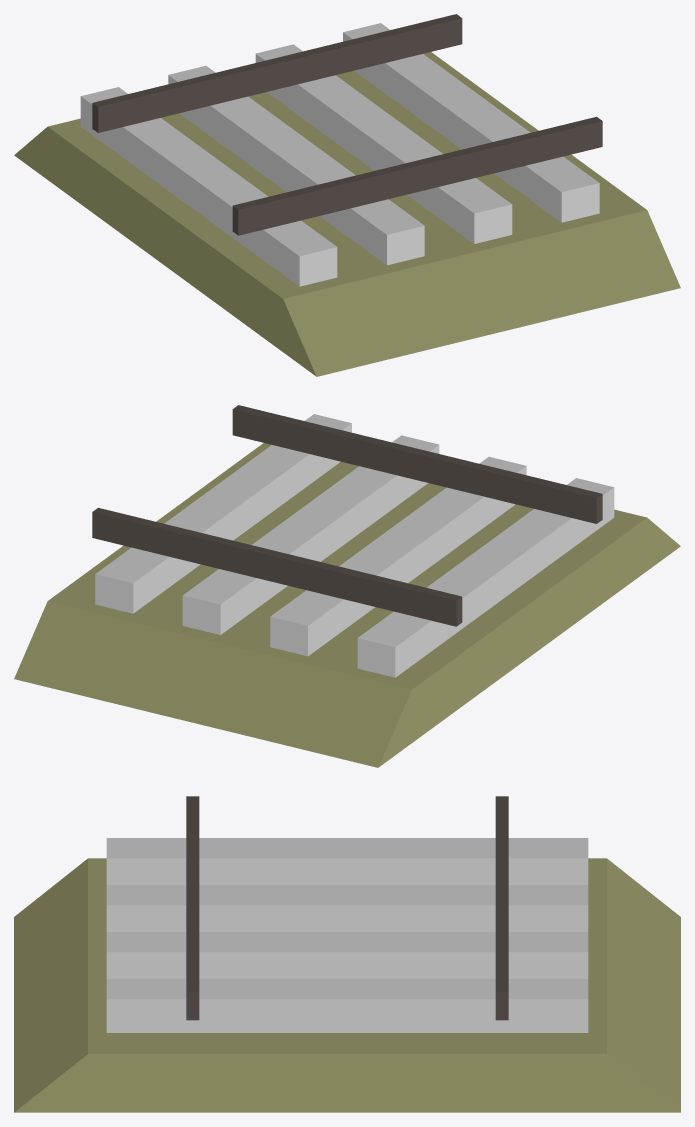
Rendered from SM_Via_Recta2_v0_Hormigon_LOD0.fbx.
3 renders of one model, top to bottom at view 1: azimuth 30°, elevation 25°; view 2: azimuth 150°, elevation 25°; view 3: azimuth 270°, elevation 25°, orthographic. The views are drawn at different scales.
Parts seen in each view (by area): view 1: SM_via_trazado_v5_LOD0; view 2: SM_via_trazado_v5_LOD0; view 3: SM_via_trazado_v5_LOD0.
Part boxes in pixels (x1=…): SM_via_trazado_v5_LOD0: x1=14, y1=14, x2=680, y2=376; SM_via_trazado_v5_LOD0: x1=14, y1=405, x2=680, y2=767; SM_via_trazado_v5_LOD0: x1=14, y1=796, x2=680, y2=1112.
Bounding box in the file's own units: 2.5 × 0.72 × 3.6.
